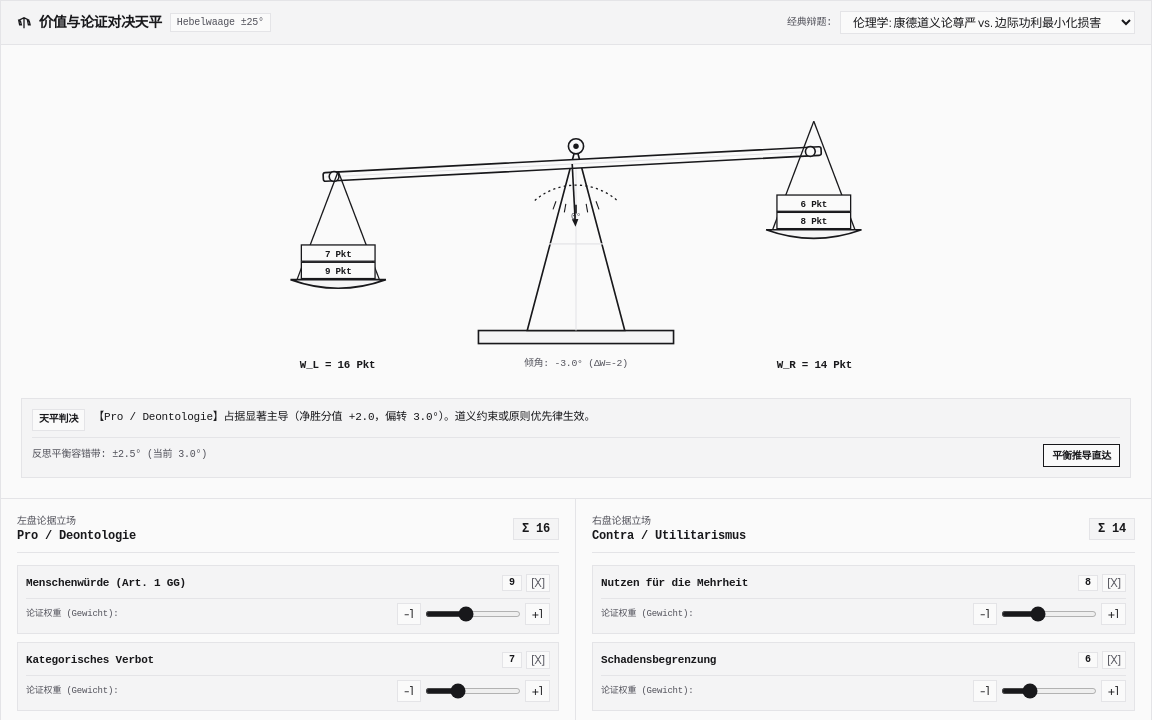
it: Generic MicroWorld: DilemmaBalanceScale › supports direct balance derivation button to resolve cognitive deadlock
Step 1. Click the button "平衡推导直达" → coordinates (1082, 456), box [1043,444,1120,467]
(page scrolled)
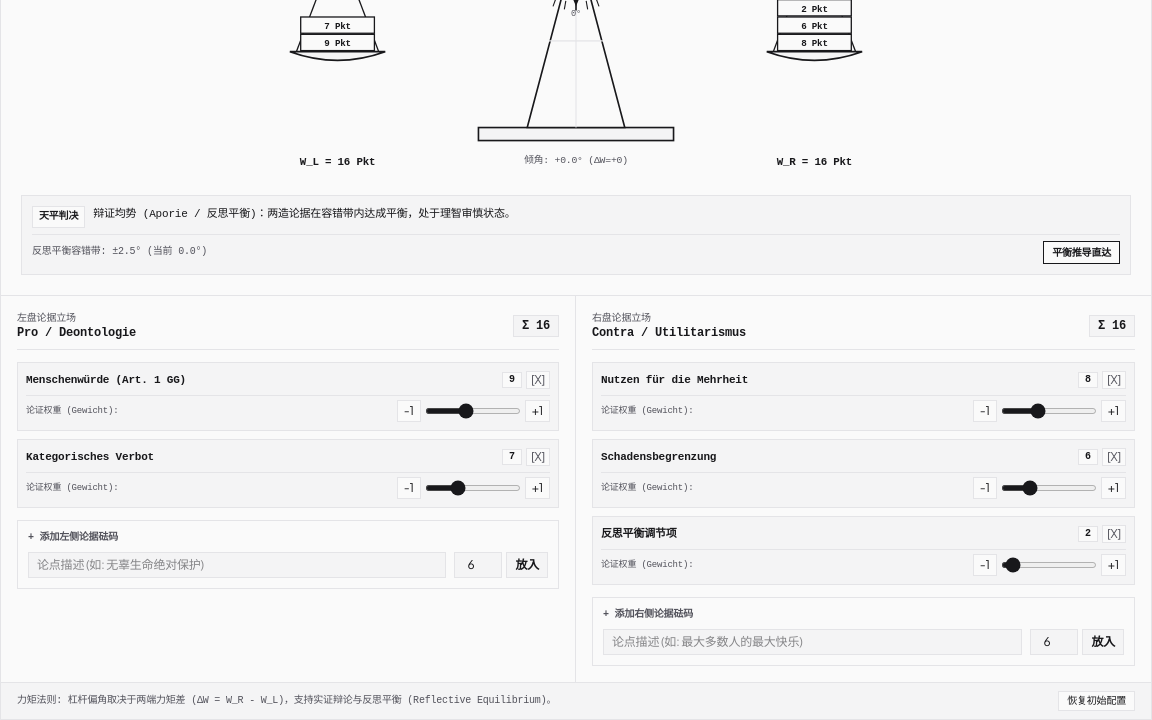
Expected: the text "反思平衡调节项" is shown, [601,527,677,541]
